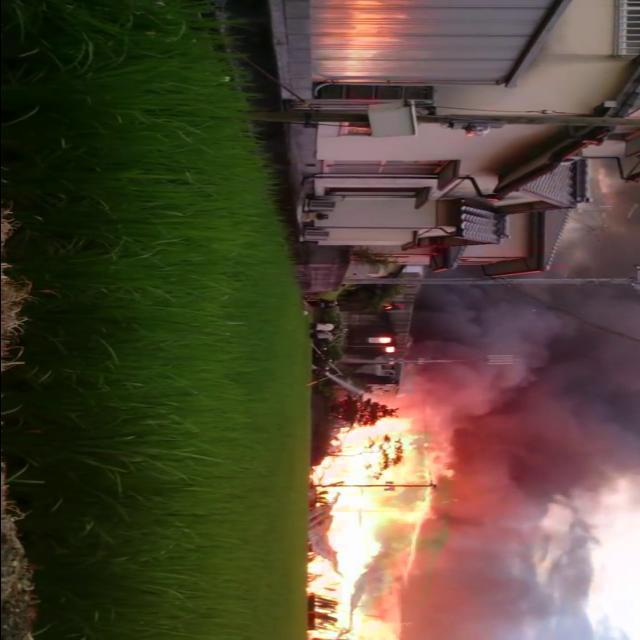Fire: (311, 412, 447, 640)
